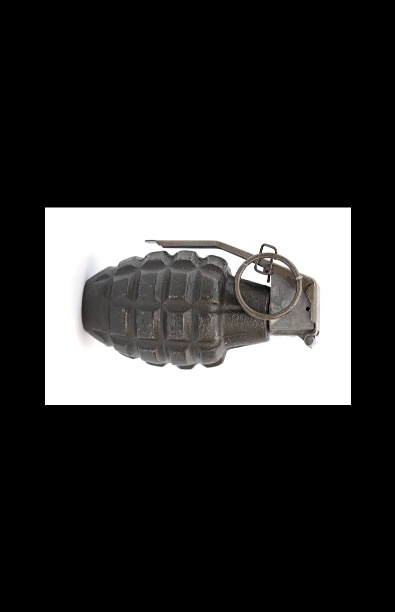e1: (77, 234, 322, 369)
